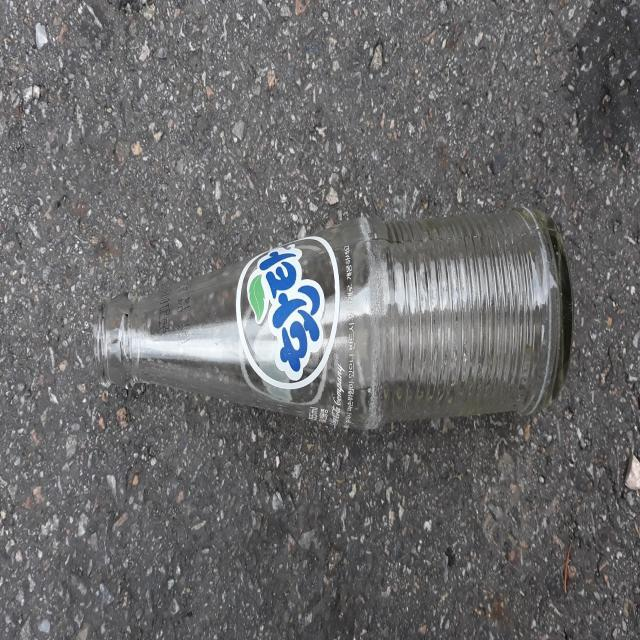glass: (94, 207, 573, 429)
